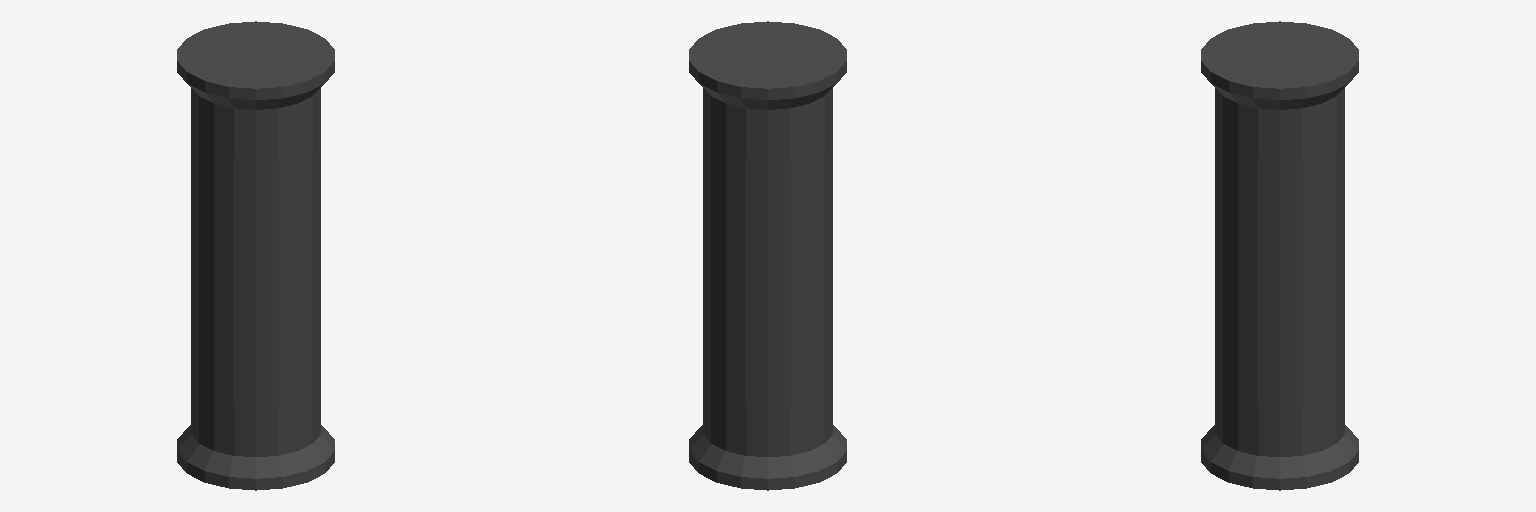
File: Column.obj
3 views of the same model, side by side, from view 1: azimuth 30°, elevation 25°; view 2: azimuth 150°, elevation 25°; view 3: azimuth 270°, elevation 25° (orthographic).
Visible parts, largest first — view 1: Low_Poly; view 2: Low_Poly; view 3: Low_Poly.
Part boxes in pixels (left/top/right/bottom): Low_Poly: left=177, top=21, right=334, bottom=490; Low_Poly: left=689, top=21, right=846, bottom=490; Low_Poly: left=1201, top=21, right=1358, bottom=490.
Bounding box in the file's own units: 72 × 200 × 70.91.